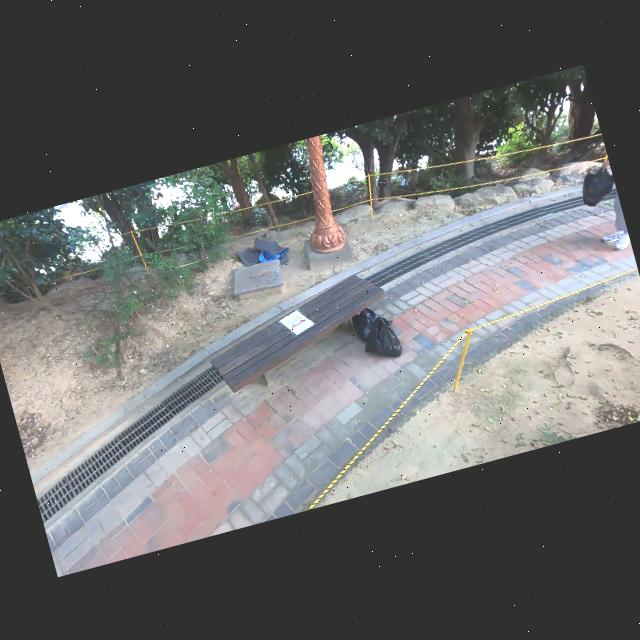trash: (227, 223, 294, 280), (358, 311, 406, 364), (346, 300, 392, 346), (574, 161, 618, 209)
